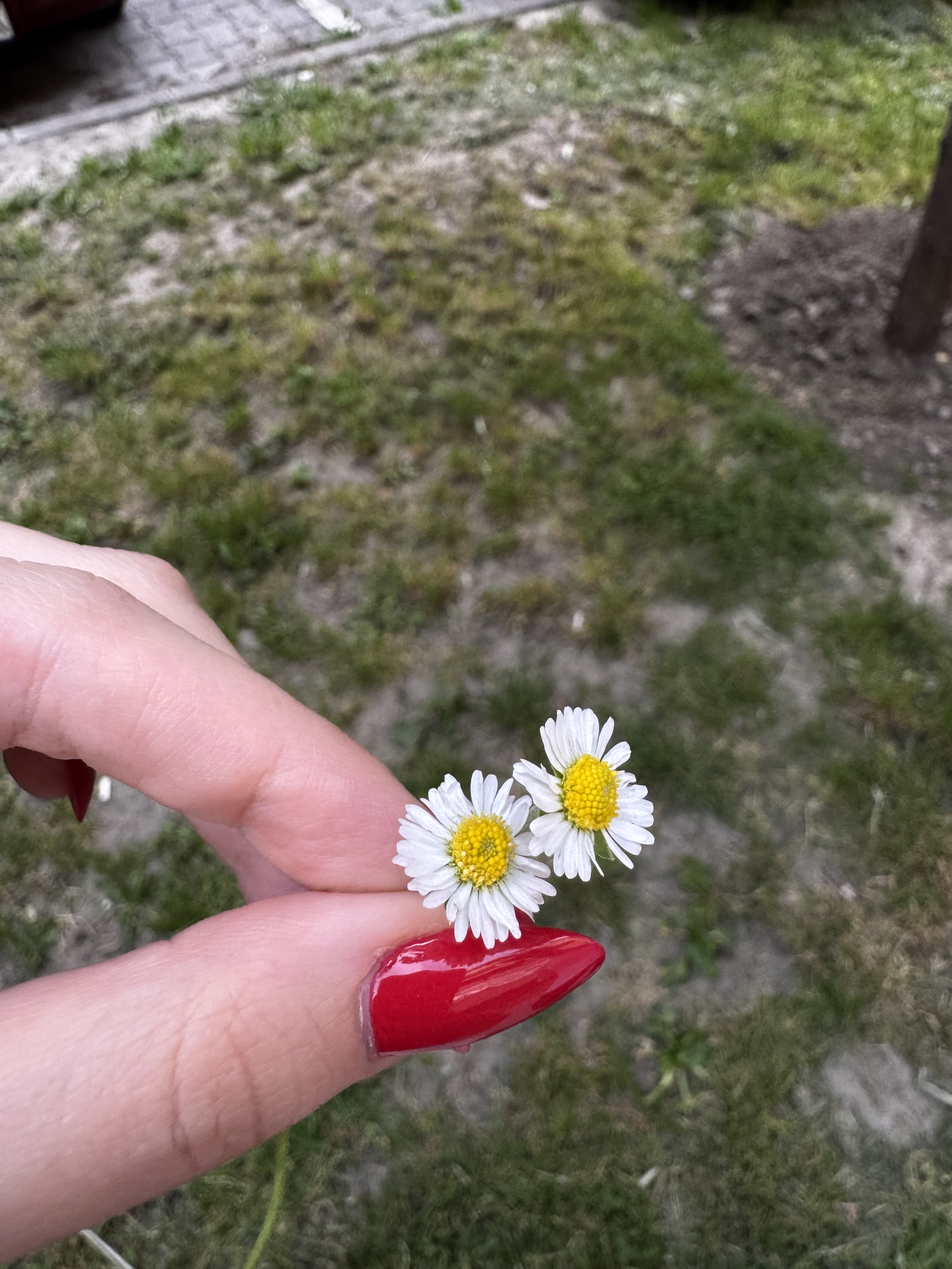daisy: (506, 706, 669, 896), (394, 769, 559, 951)
